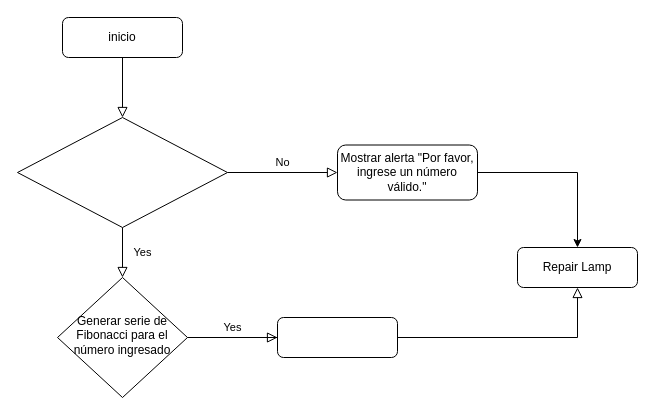
This 655x415 diagram has some shape labels left out. The shapes that lost their labels are listed below. From the top down, each one's centre as x and y in pixels, then its label:
At (122,172): "¿El usuario ingresó un número válido? (¿Es NaN?)".
At (337,337): "imprimir en consola".
